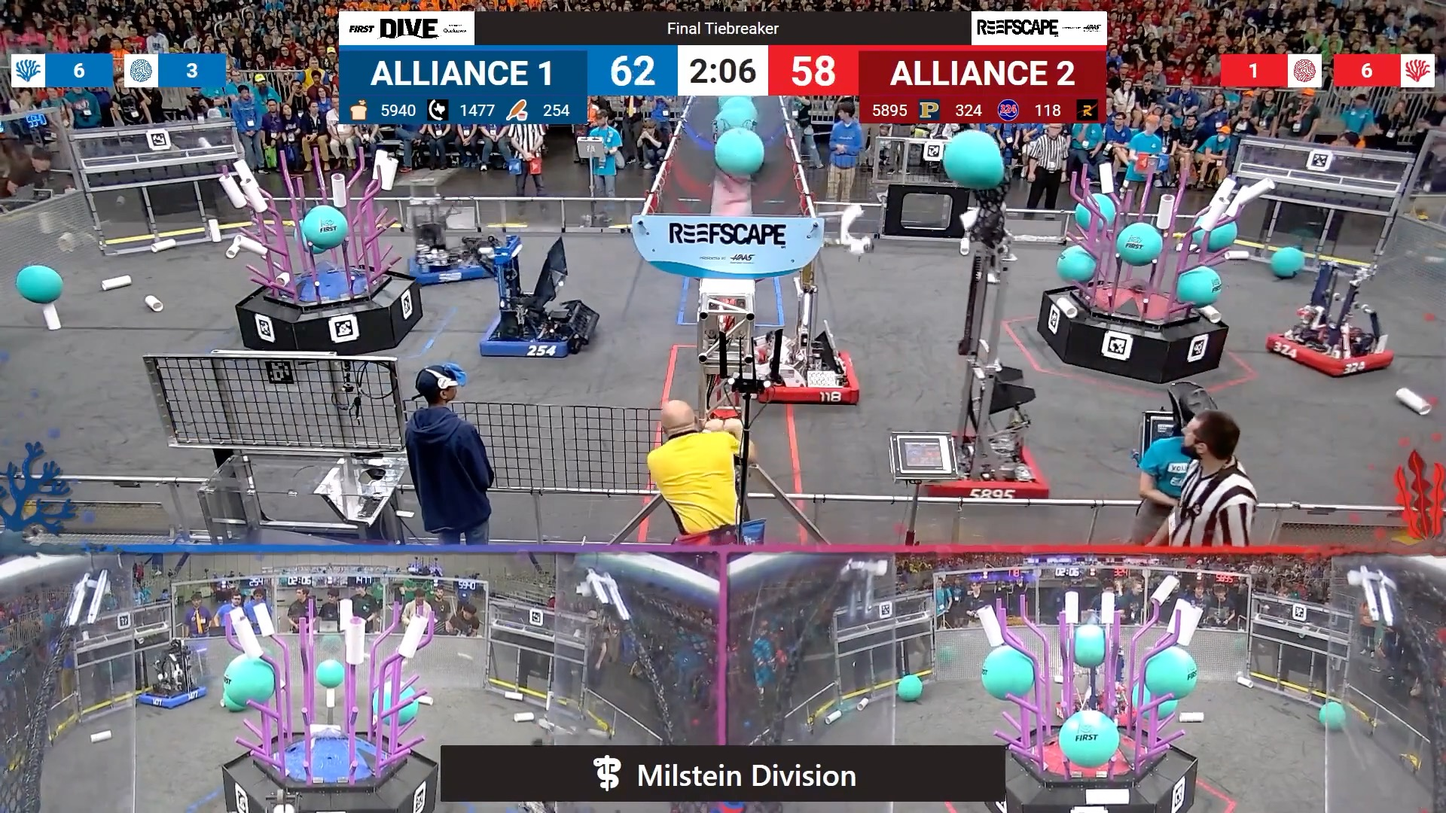bumpers: (891, 430, 1047, 509), (1256, 326, 1398, 383), (475, 306, 592, 368), (756, 347, 864, 410), (404, 241, 524, 289), (132, 682, 212, 716)
